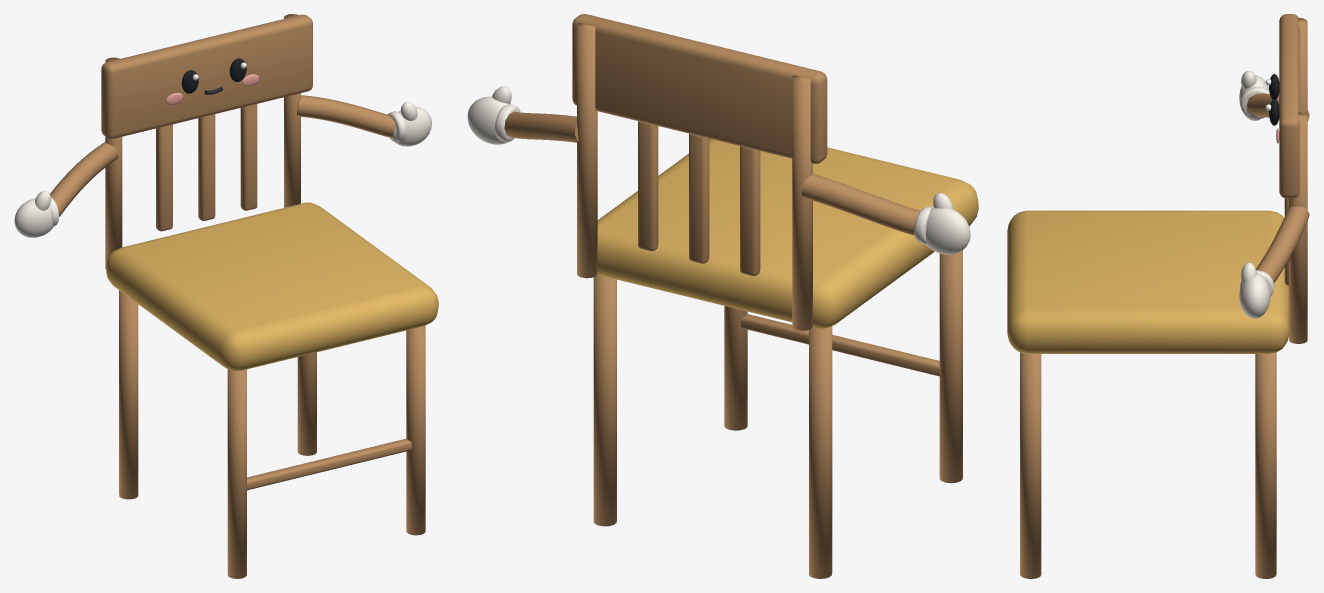
The model's file is chair-seat.glb.
The picture shows the model from 3 angles, left to right: view 1: azimuth 30°, elevation 25°; view 2: azimuth 150°, elevation 25°; view 3: azimuth 270°, elevation 25°; orthographic projection. The views are drawn at different scales.
Parts seen in each view (by area): view 1: Legs.005, Upholstery.007, Arm_R.007, Arm_L.007; view 2: Legs.005, Upholstery.007, Arm_L.007, Arm_R.007; view 3: Upholstery.007, Legs.005, Arm_R.007, Arm_L.007.
Part boxes in pixels (<box>): Legs.005: <box>101,14,425,578</box>; Upholstery.007: <box>106,202,438,371</box>; Arm_R.007: <box>297,95,431,146</box>; Arm_L.007: <box>14,142,118,237</box>; Legs.005: <box>572,14,962,578</box>; Upholstery.007: <box>597,138,978,328</box>; Arm_L.007: <box>801,173,970,254</box>; Arm_R.007: <box>467,86,578,144</box>; Upholstery.007: <box>1007,210,1289,353</box>; Legs.005: <box>1020,14,1307,578</box>; Arm_R.007: <box>1239,206,1309,318</box>; Arm_L.007: <box>1239,71,1309,121</box>.
Size of the model in its own units: 0.8834 by 0.865 by 0.5144.
